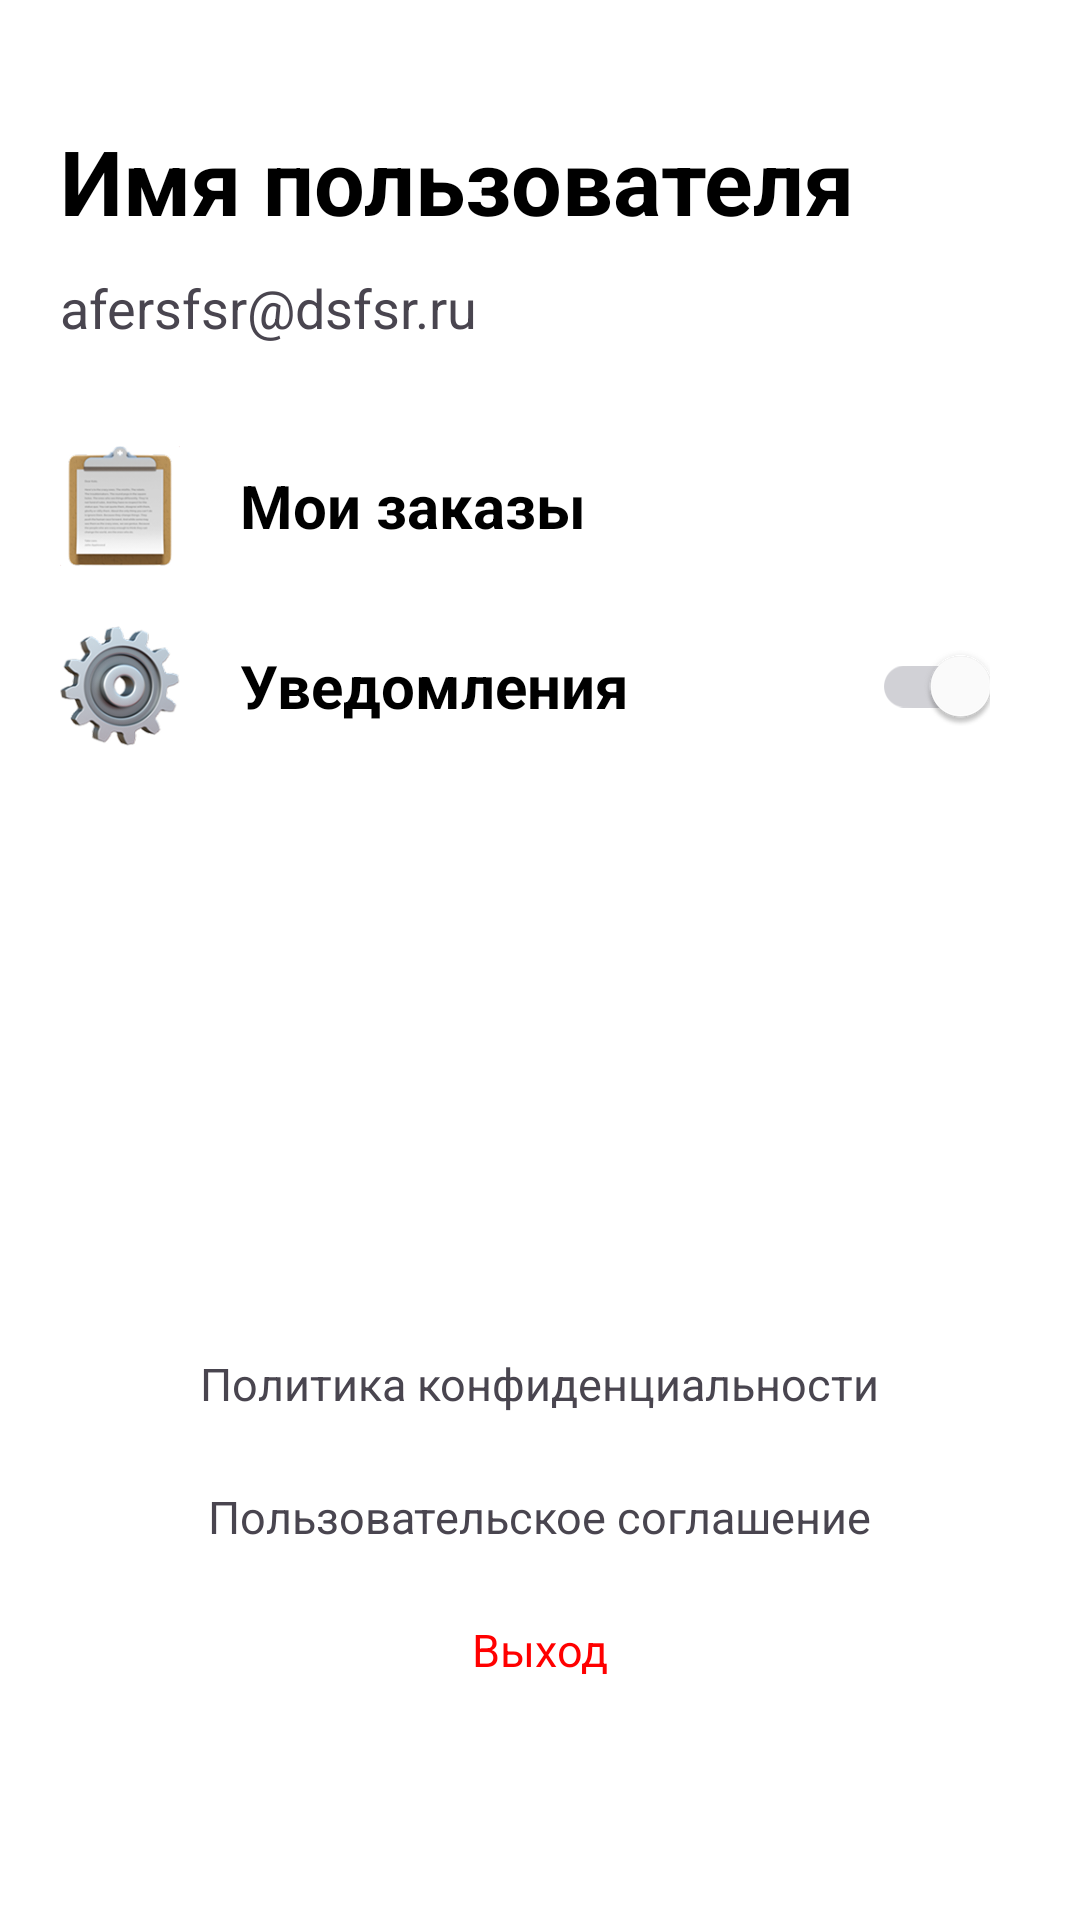

Screen size 1080 × 1920. Icon name, then its box in pixels as (x1, y1, x2, y2):
order: (68, 446, 172, 566)
settings: (60, 627, 179, 746)
